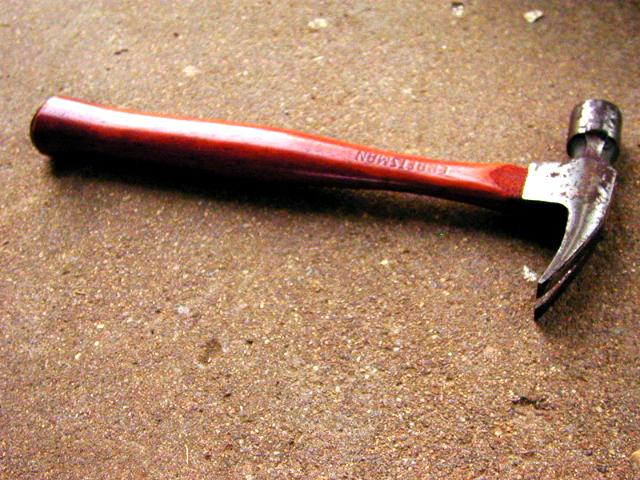hammer: (22, 80, 634, 334)
